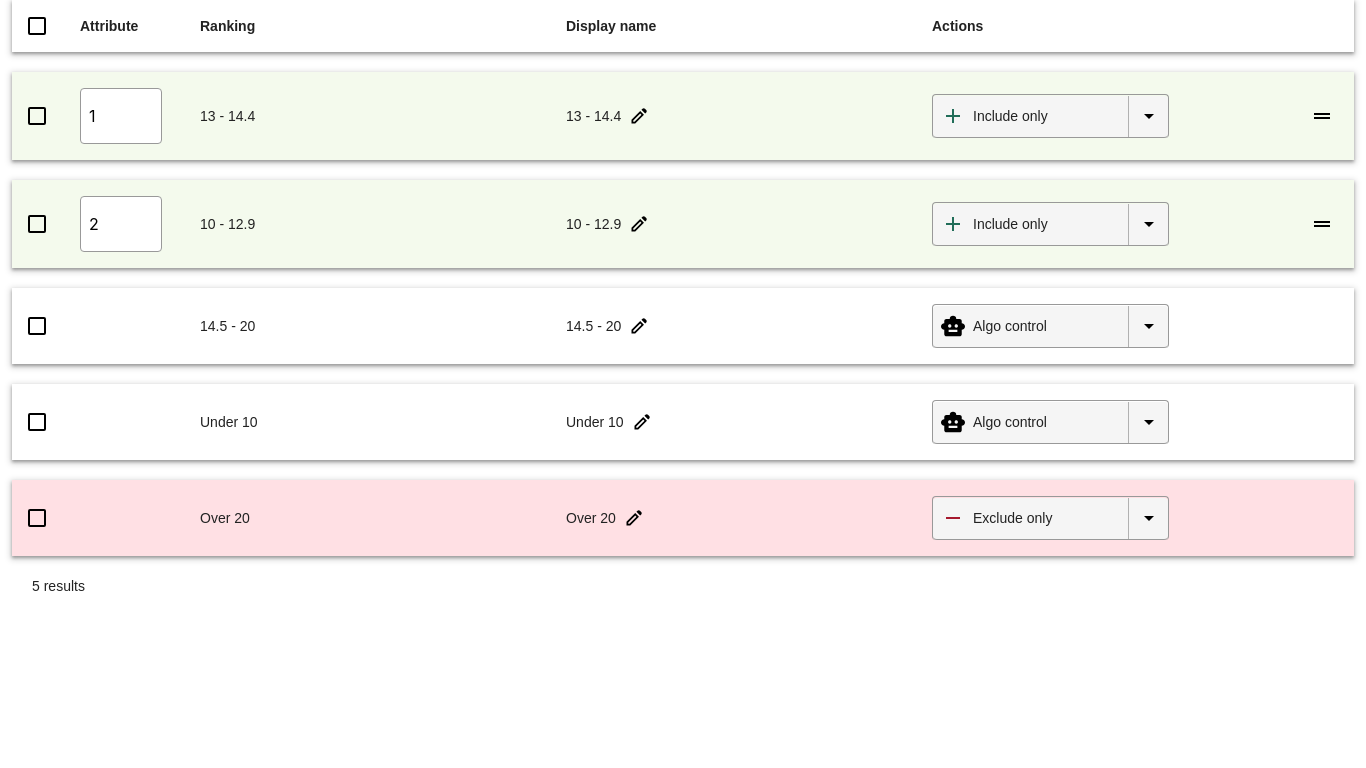
Test: FacetAttributesList › re-ordering by number › should keep the existing order if the user deletes, then clicks enter without inputting a new order
Clear the number field named "Order for 13 - 14.4" at (121, 116), box x1=80 y1=88 x2=162 y2=144
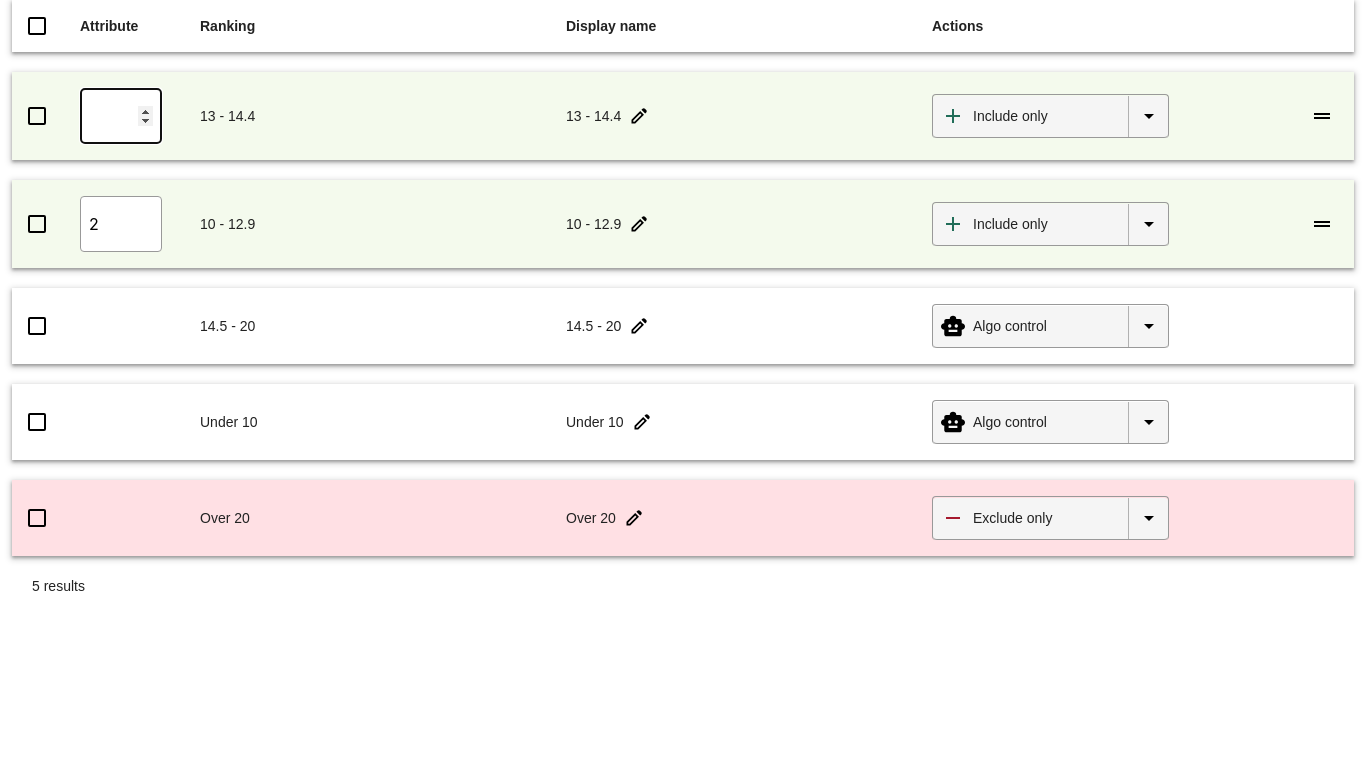
Press Enter
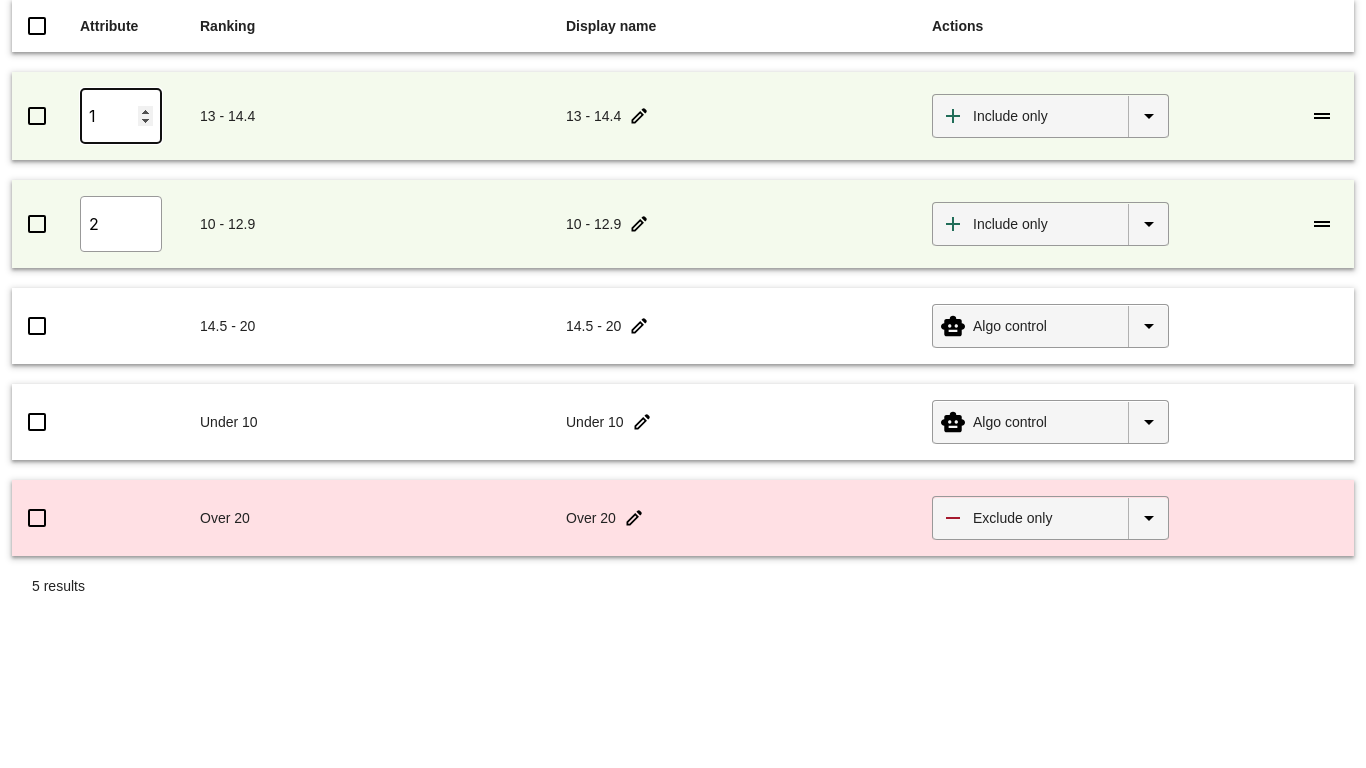
Now the number field named "Order for 13 - 14.4" holds "1", box x1=80 y1=88 x2=162 y2=144
